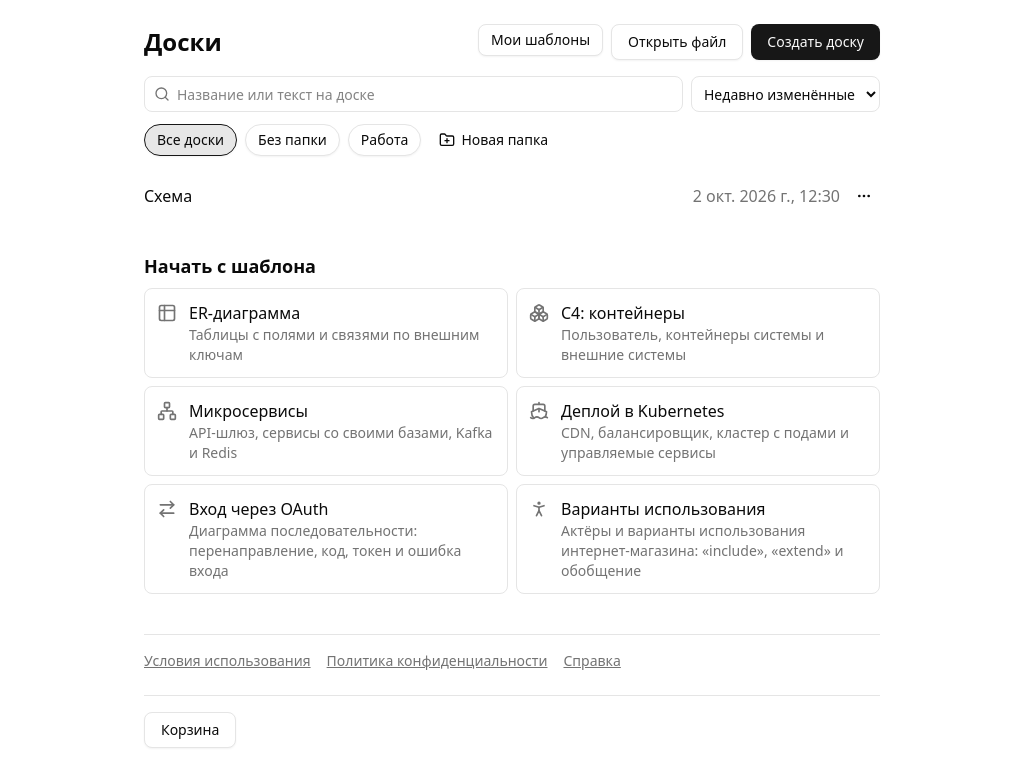
Test: BoardsPage folders › puts a board back when the move fails
The width and height of the screenshot is (1024, 768).
Click the button named "Меню доски «Схема»".
click(864, 196)  # box [848,180,880,212]
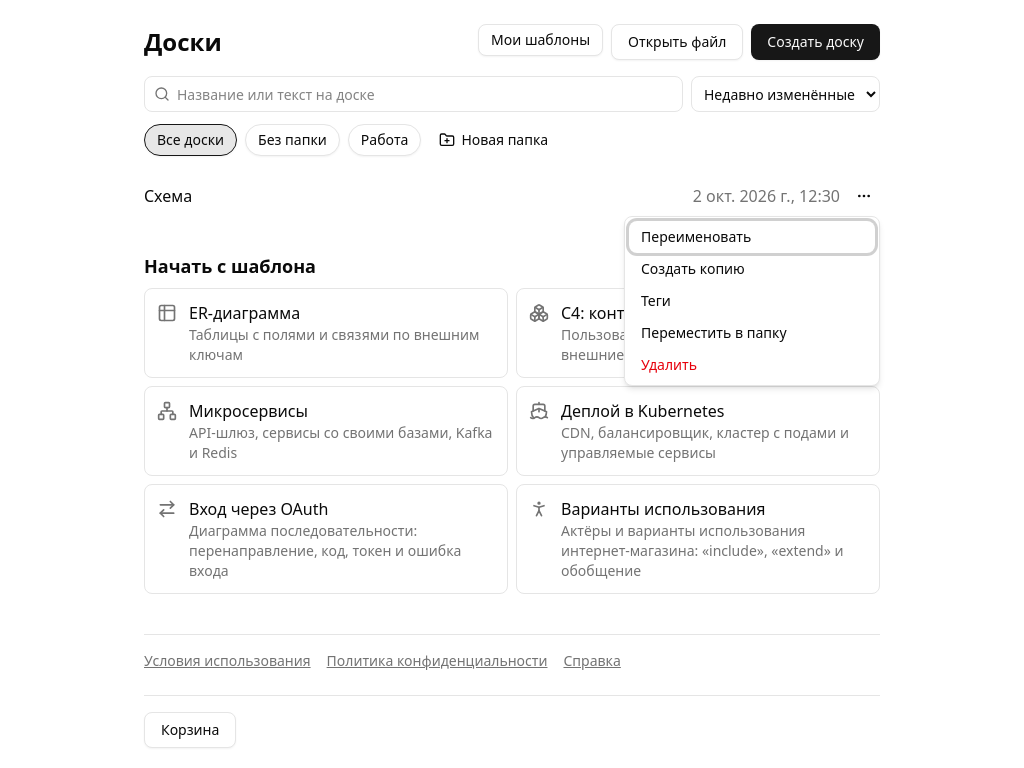
Click the menu item "Переместить в папку".
click(752, 333)  # box [629,317,875,349]
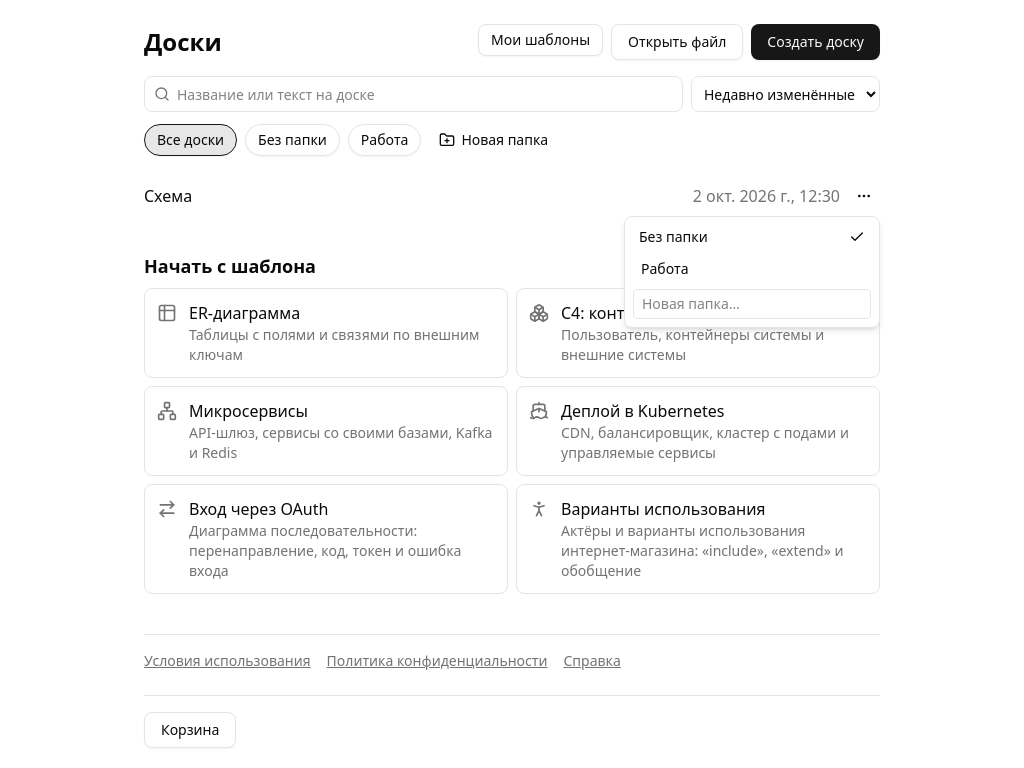
Click the menu item "Работа".
click(752, 269)  # box [629,253,875,285]
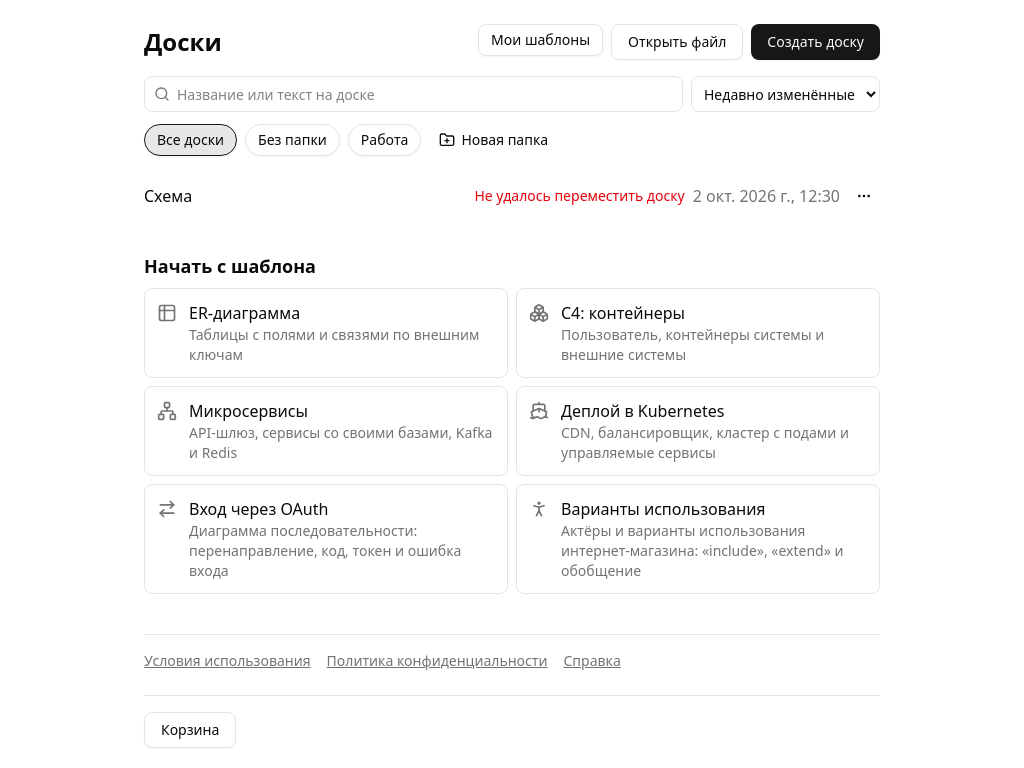
Check: the list item "Схема" does not show "Папка: Работа", box [144,172,880,220]
Check: the message reads "Не удалось переместить доску", box [474,186,685,205]
